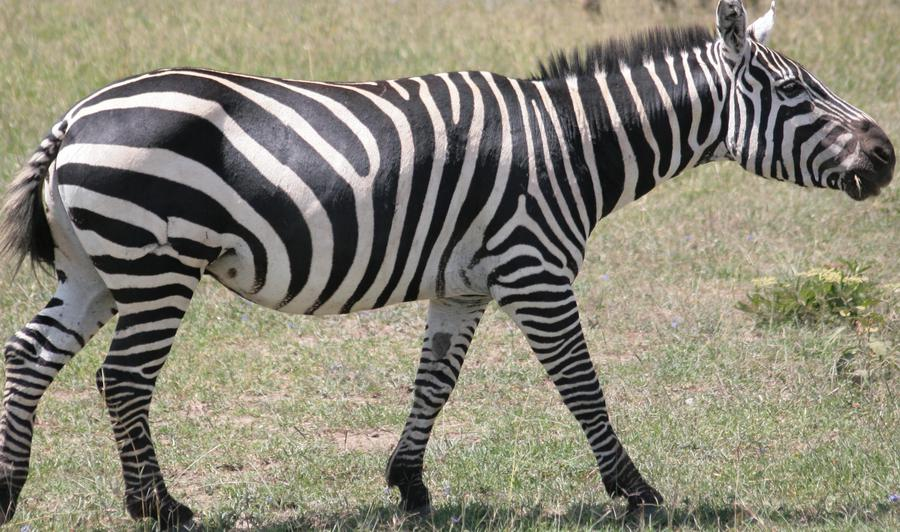zebra_plains: (89, 59, 576, 311)
